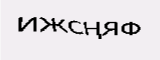Б: (54, 12, 68, 37)
Л: (69, 14, 90, 41)
М: (32, 11, 52, 37)
У: (86, 20, 103, 44)
Ю: (103, 19, 127, 48)
